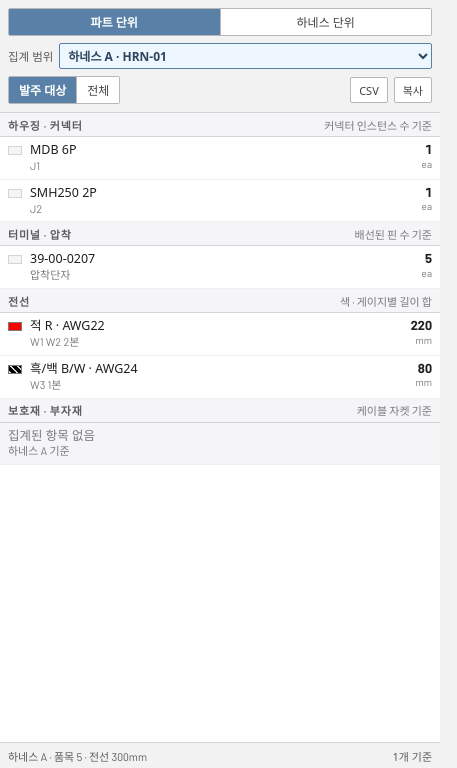
Test: 파트 탭 — 하네스 단위 › 제작 사양서에 작업 지시와 첨부 목록이 들어간다
Click the button "하네스 단위" at (325, 22), box 220,9 -> 431,35
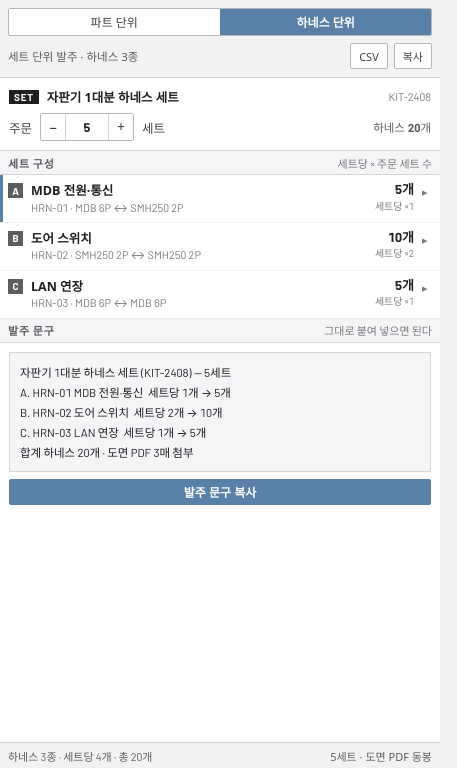
Click the text "MDB 전원·통신" at (72, 190), box 31,182 -> 113,199
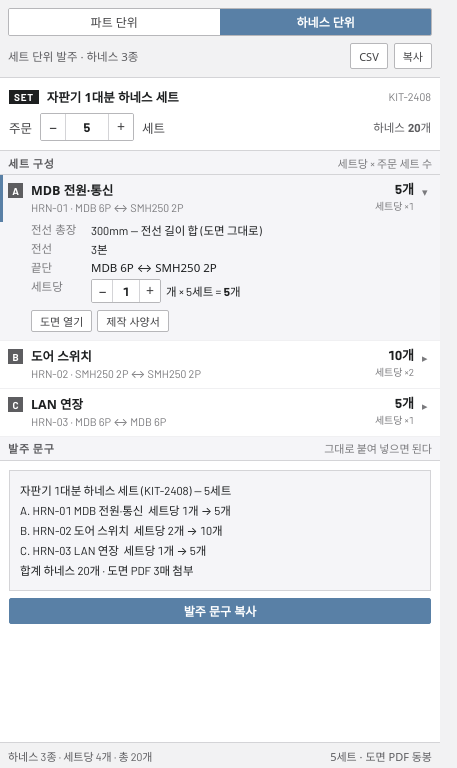
Click the button "제작 사양서" at (133, 321), box 97,310 -> 169,332
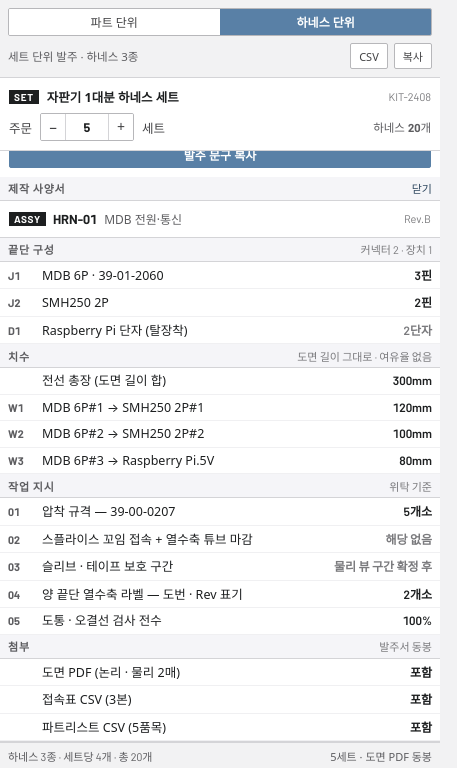
Result: the text "작업 지시" is shown at 8,478 -> 54,494
Result: the text "압착 규격 — 39-00-0207" is shown at 42,503 -> 176,520
Result: the text "도통 · 오결선 검사 전수" is shown at 42,612 -> 162,629
